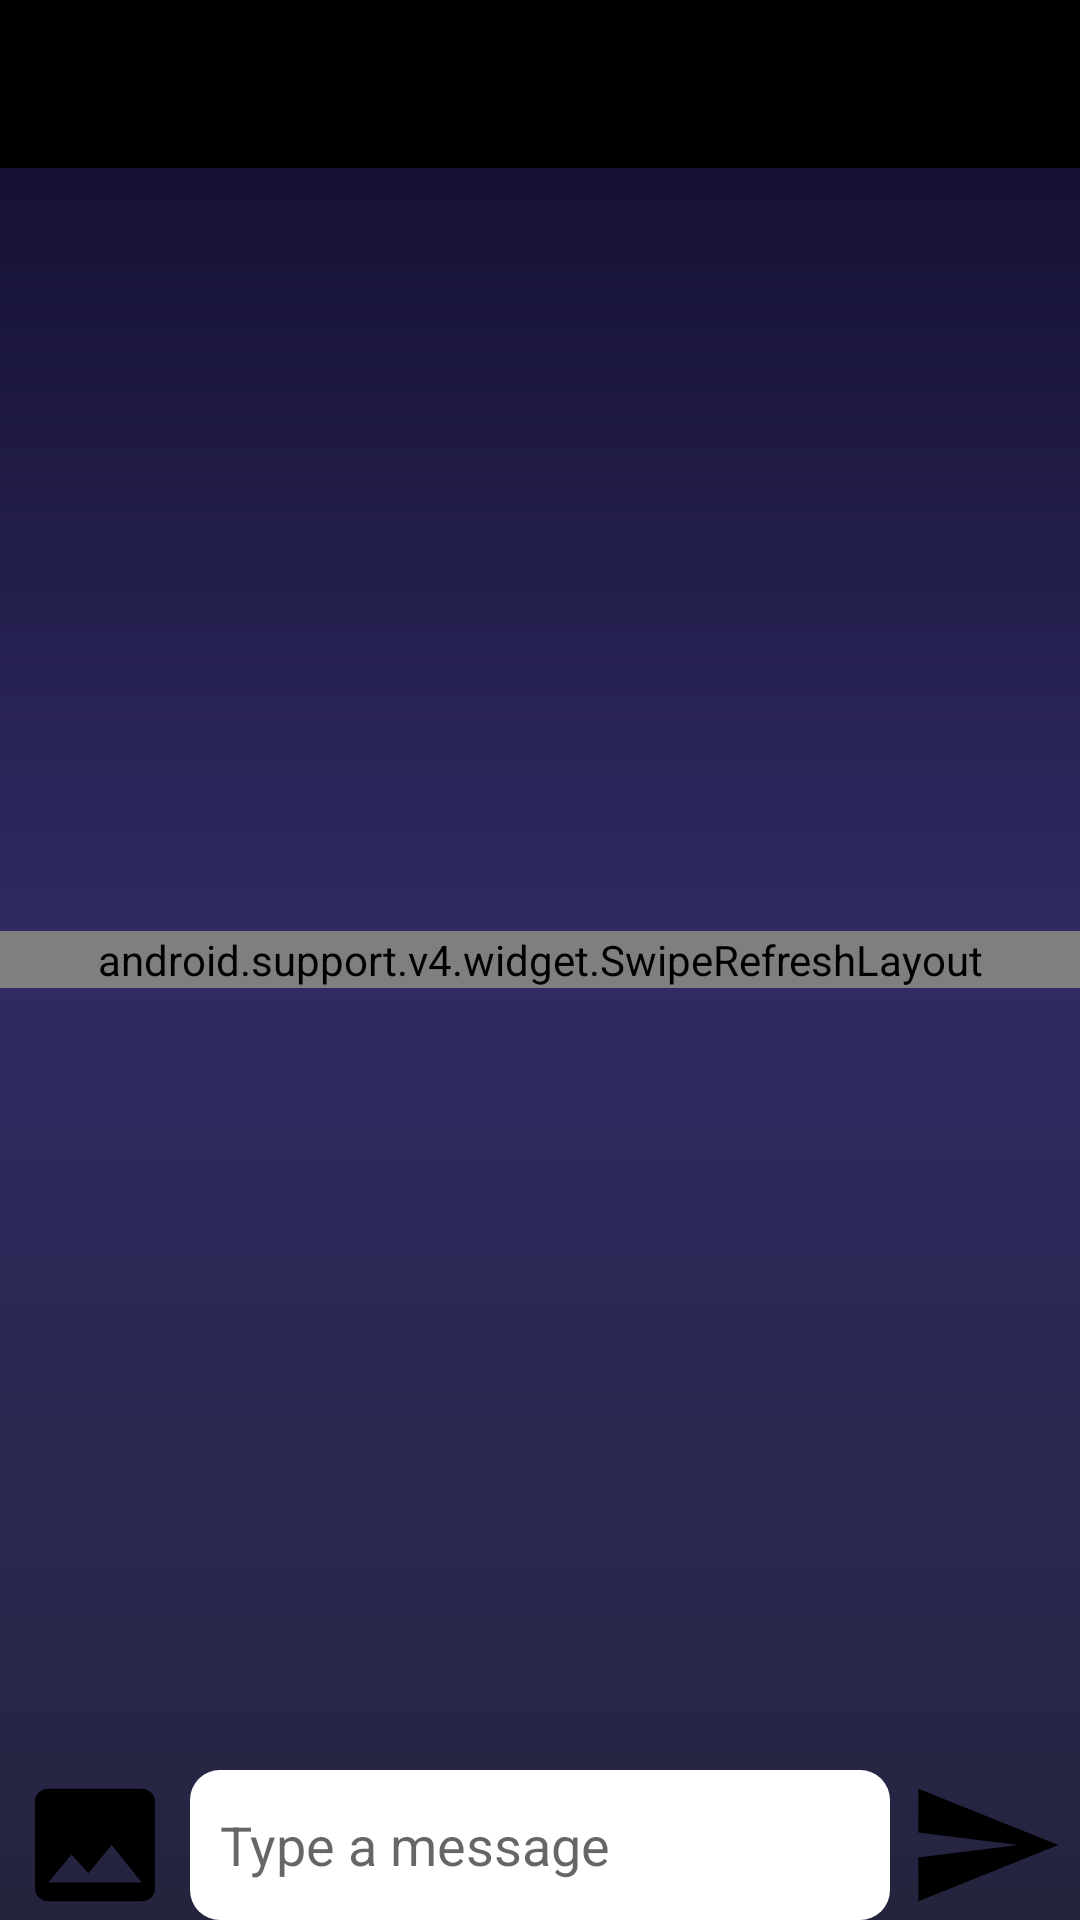

Point at icon controls on the screen. Image size 1080px×1920px, points as point (x, y).
send: point (987, 1845)
